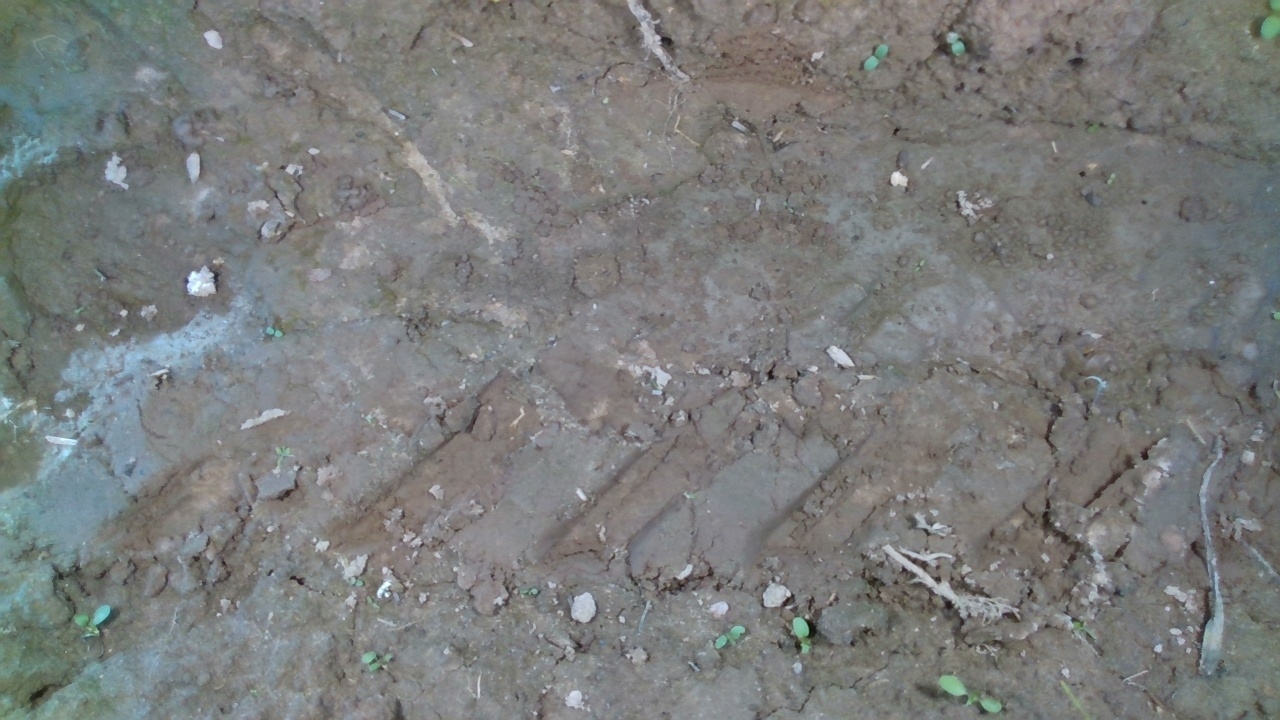weed: (934, 671, 1003, 714), (70, 602, 112, 639), (792, 615, 814, 654), (711, 624, 745, 649), (359, 650, 395, 672), (863, 42, 889, 72), (945, 31, 966, 57), (264, 326, 285, 339), (1105, 172, 1117, 187)
